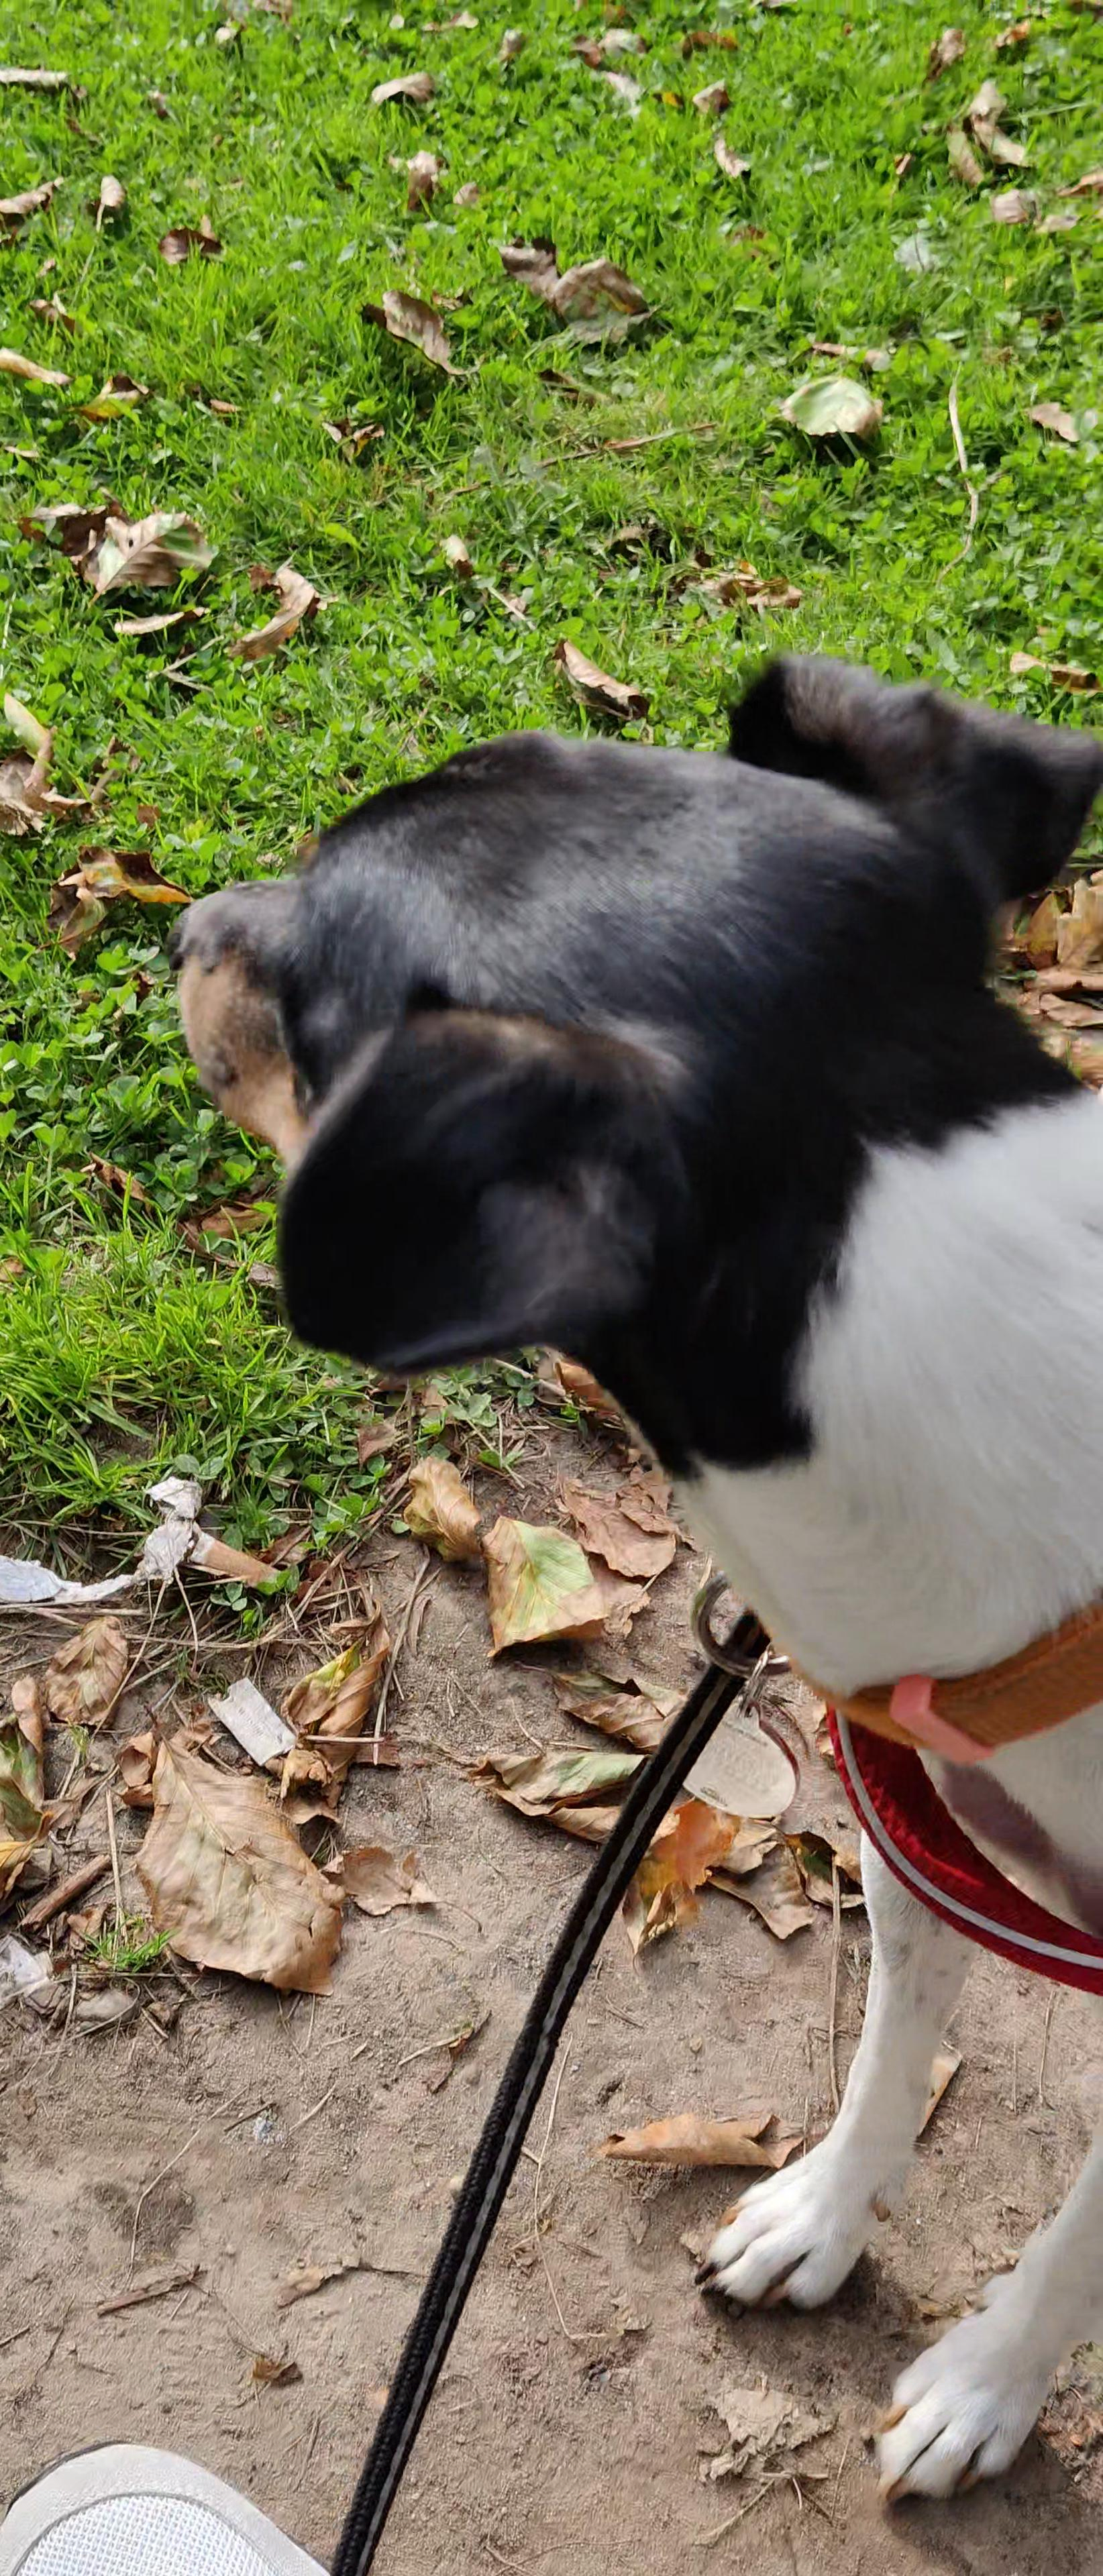Dog: (117, 593, 1103, 2525)
